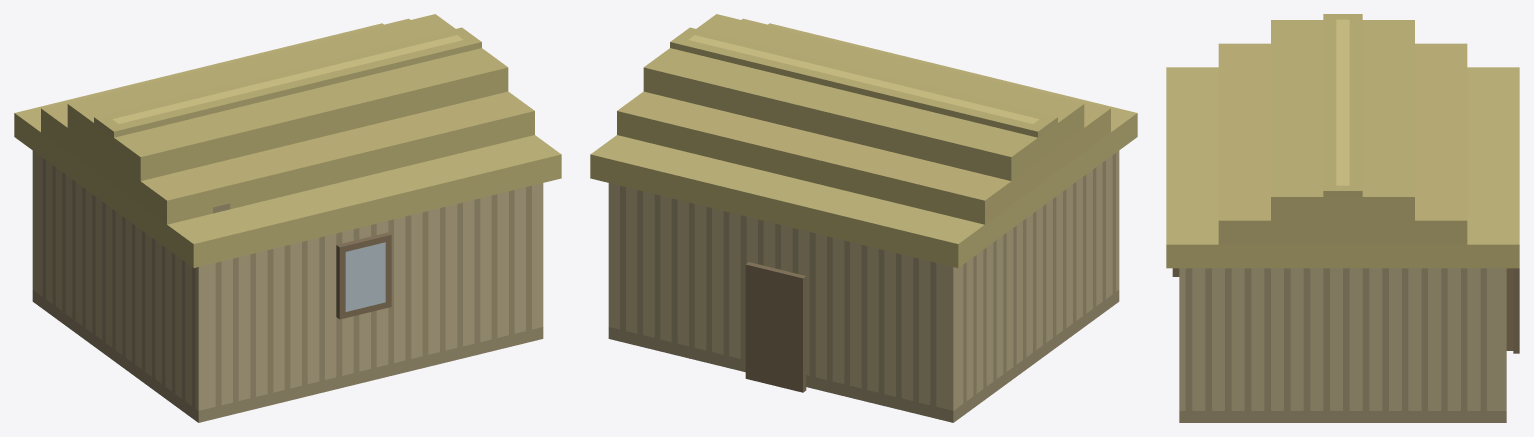
Rendered from choza_curandero_01.glb.
3 views of the same model, side by side, from view 1: azimuth 30°, elevation 25°; view 2: azimuth 150°, elevation 25°; view 3: azimuth 270°, elevation 25° (orthographic).
Parts seen in each view (by area): view 1: choza_curandero_01; view 2: choza_curandero_01; view 3: choza_curandero_01.
Part boxes in pixels (left/top/right/bottom): choza_curandero_01: left=14, top=14, right=561, bottom=422; choza_curandero_01: left=590, top=14, right=1137, bottom=422; choza_curandero_01: left=1166, top=14, right=1519, bottom=422.
Bounding box in the file's own units: 6.4 × 4 × 5.4.
